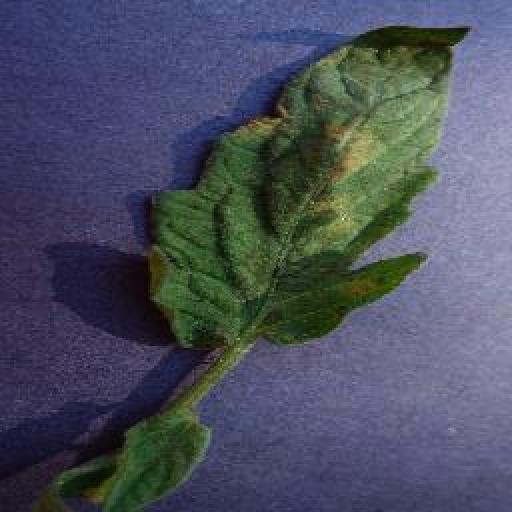disease_tomato: (147, 24, 471, 352)
